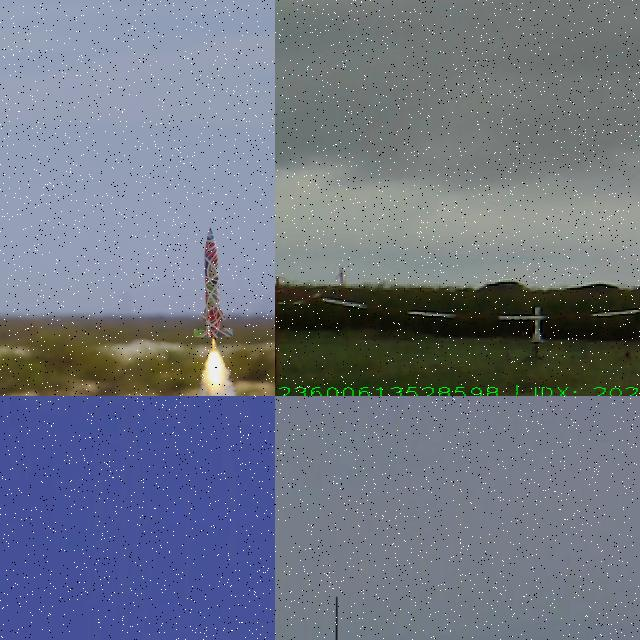Rocket: (193, 227, 234, 341), (530, 305, 544, 344)
